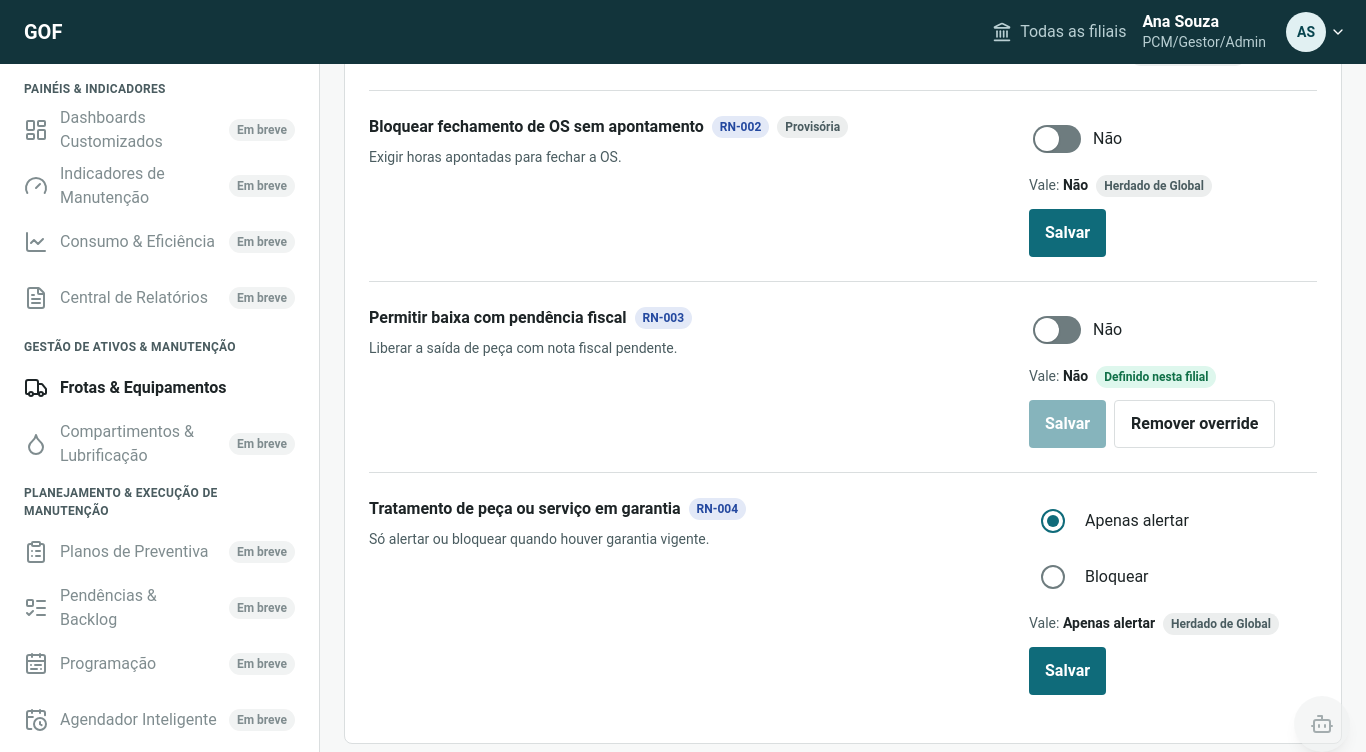
Test: Painel de Parâmetros (F1-28) › Remover override: DELETE com escopo na query e a origem volta a ser herdada
(page scrolled)
expect the element "Permitir baixa com pendência fiscal" shows "Definido nesta filial": met, box [1104, 370, 1208, 384]
Click the button "Remover override". click: (1195, 424)
box: [1114, 400, 1275, 448]
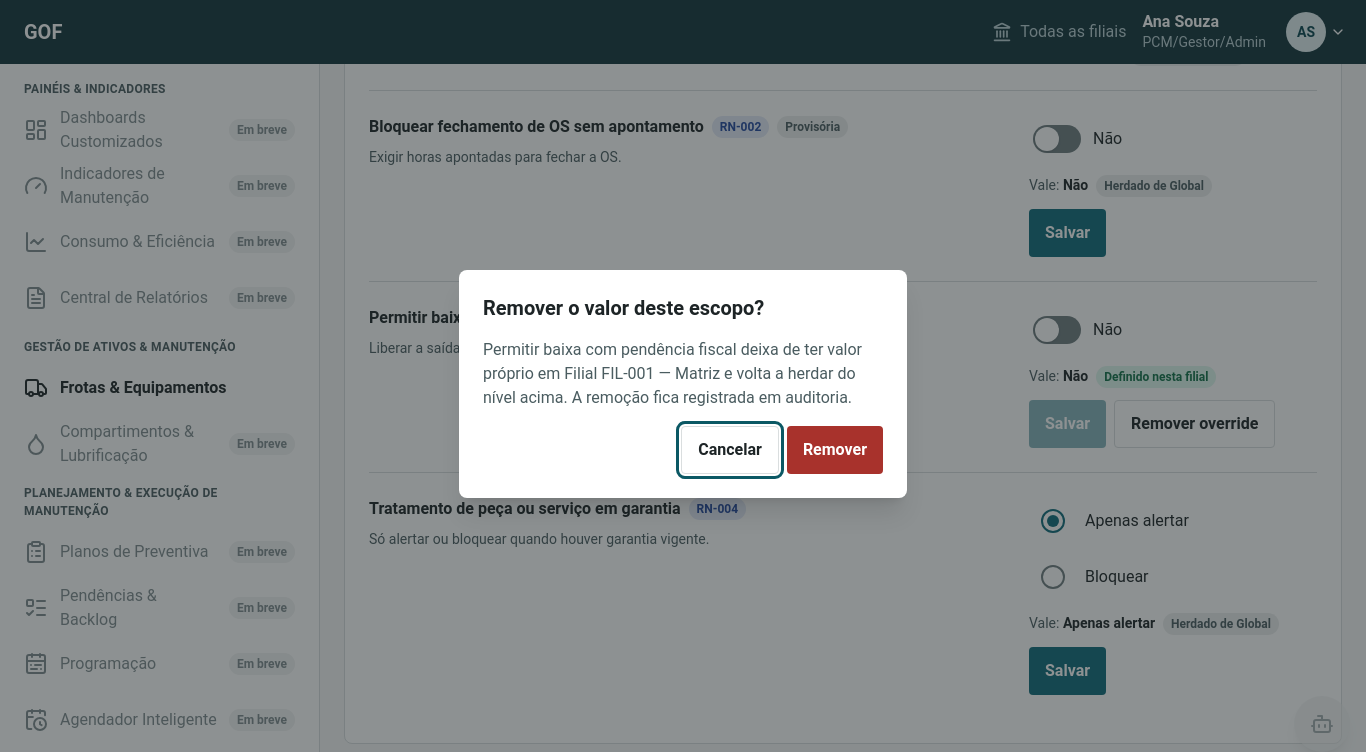
expect the dialog "Remover o valor deste escopo?" shows "volta a herdar do nível acima": met, box [483, 340, 862, 407]
Click the button "Remover". click: (835, 450)
box: [787, 426, 883, 474]
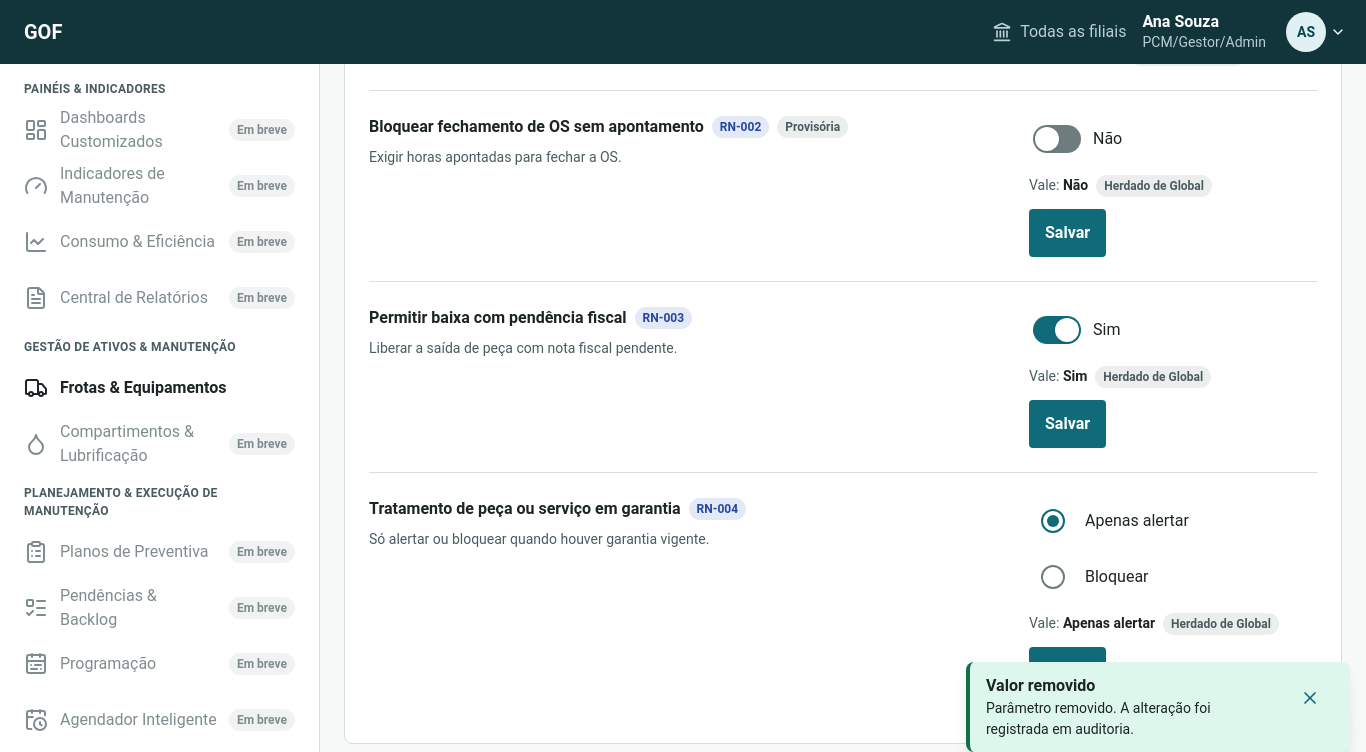
expect the element "Permitir baixa com pendência fiscal" shows "Herdado de Global": met, box [1103, 370, 1203, 384]
expect the button "Remover override" is gone: met
expect the switch in the row of "RN-003" is checked: met, box [1029, 306, 1085, 354]
